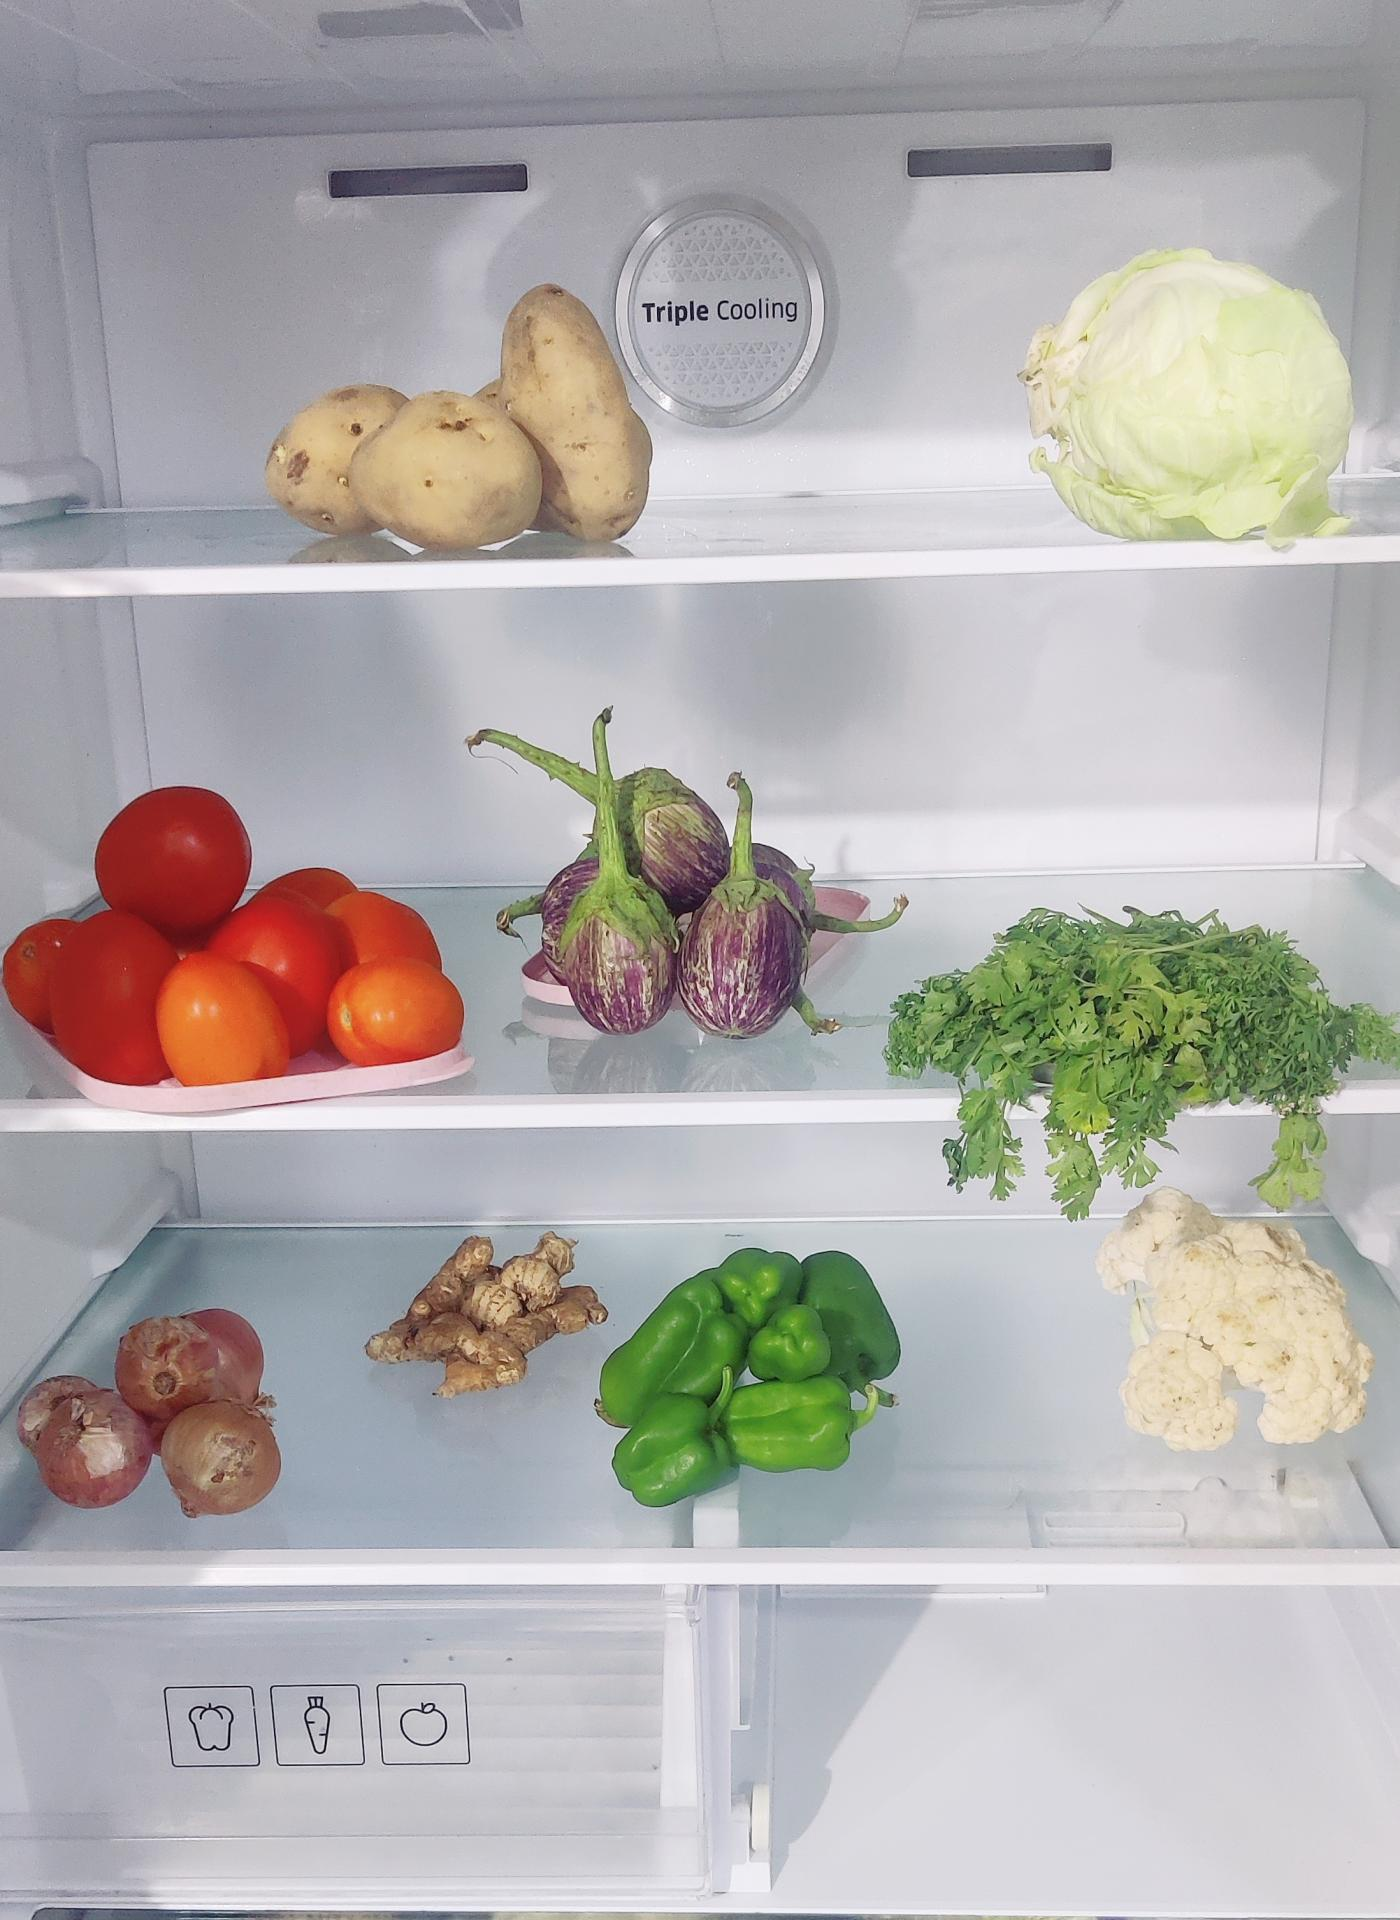brinjal: (529, 765, 813, 1036)
cabbage: (1027, 243, 1358, 535)
capsicum: (605, 1242, 901, 1501)
cauliflower: (1114, 1200, 1375, 1453)
coriander: (889, 918, 1373, 1137)
ginger: (371, 1230, 607, 1392)
onion: (33, 1310, 282, 1525)
potato: (261, 286, 652, 546)
tomato: (3, 781, 464, 1082)
